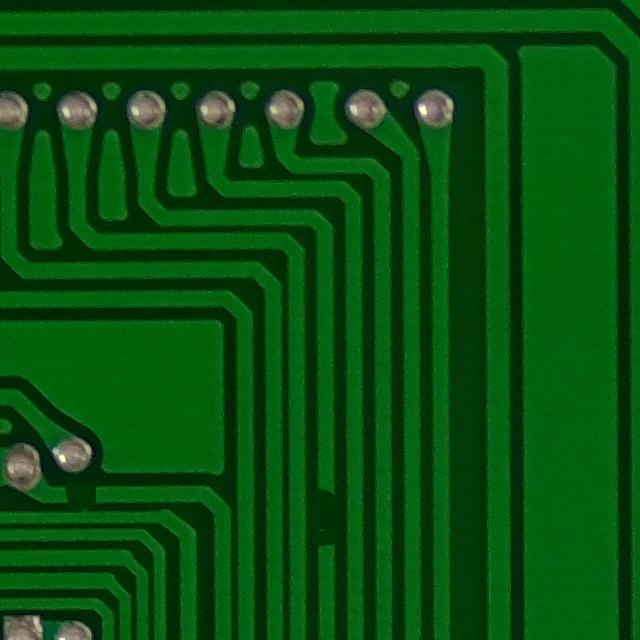open_circuit: (308, 482, 344, 563), (54, 475, 110, 514)
